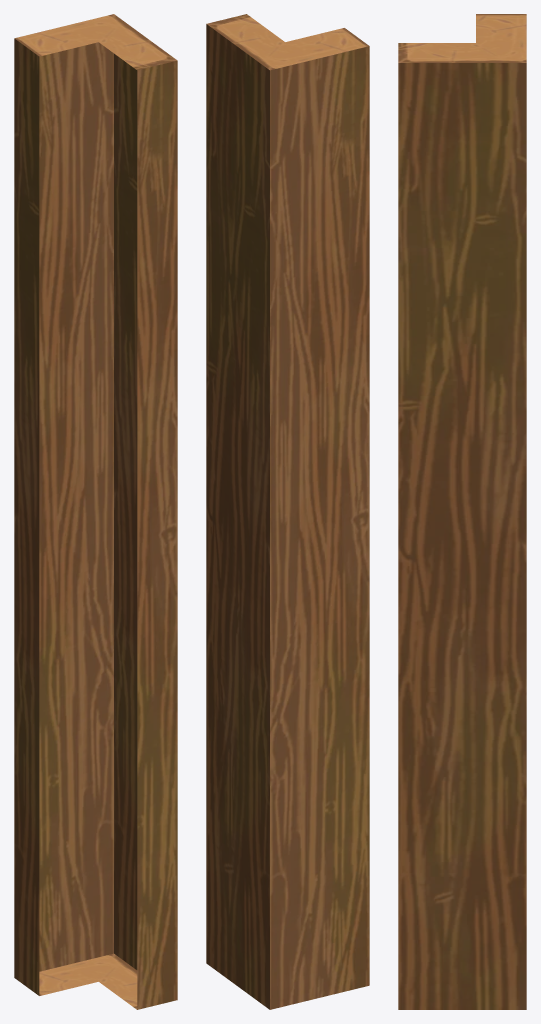
File: Corner_Interior_Big.gltf
The picture shows the model from 3 angles, left to right: view 1: azimuth 30°, elevation 25°; view 2: azimuth 210°, elevation 25°; view 3: azimuth 270°, elevation 25°; orthographic projection.
Parts seen in each view (by area): view 1: Corner_Interior_Big; view 2: Corner_Interior_Big; view 3: Corner_Interior_Big.
Part boxes in pixels (bbox=[...]): Corner_Interior_Big: bbox=[14, 14, 177, 1009]; Corner_Interior_Big: bbox=[206, 14, 369, 1009]; Corner_Interior_Big: bbox=[398, 14, 526, 1009].
Size of the model in its own units: 0.3331 by 3 by 0.3681.
1 material, 1 textured.
